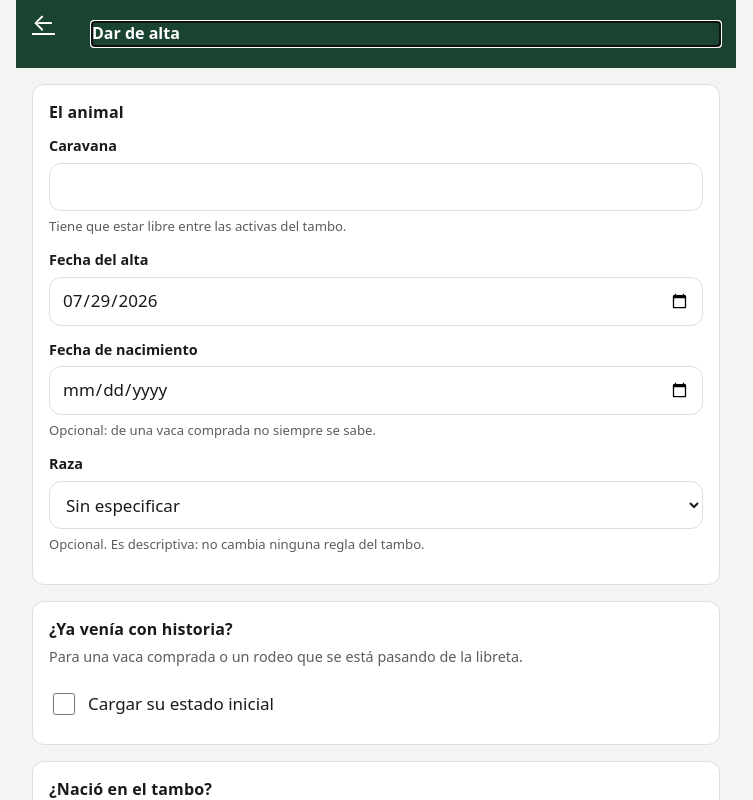
Test: el alta mínima › una caravana en uso muestra el mensaje de la API tal cual
This screenshot has width=753, height=800.
Type "102" into the field labelled "Caravana" at (376, 187), box [49,163,703,211]
(page scrolled)
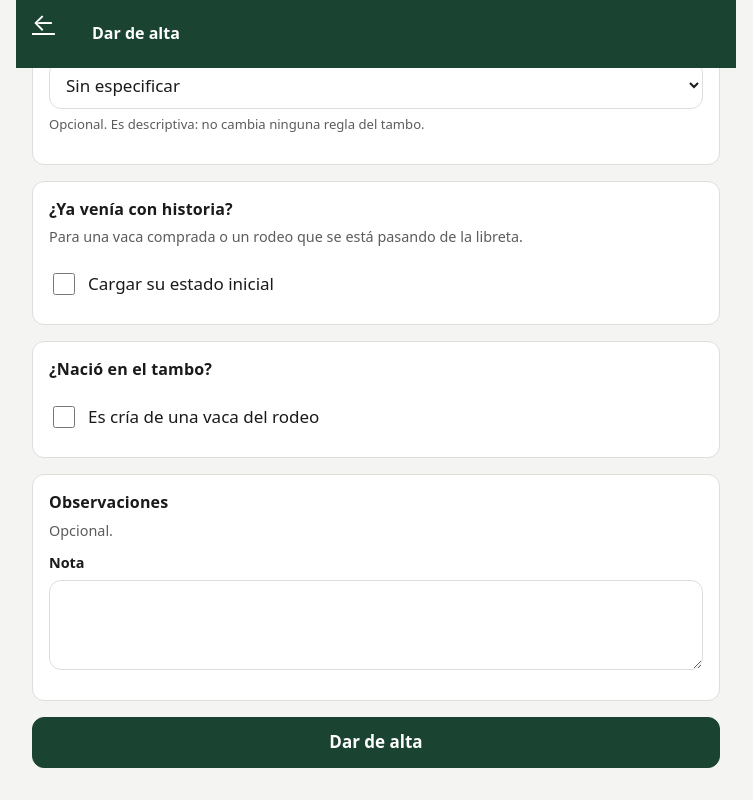
Click the button "Dar de alta" at (376, 743), box [32,717,720,768]
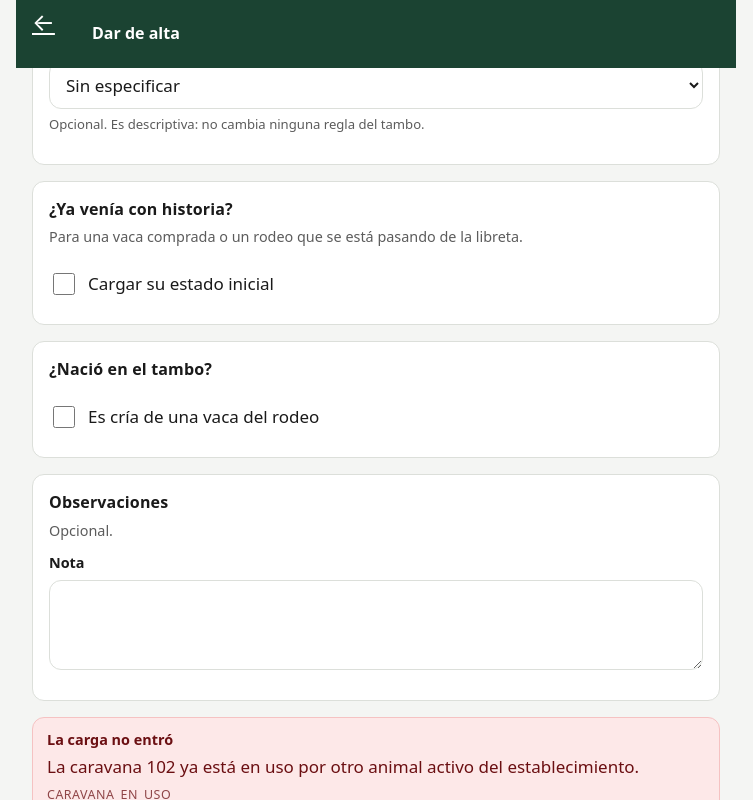
Now the text "La caravana 102 ya está en uso por otro animal activo del establecimiento." is shown, box [47,755,705,780]
